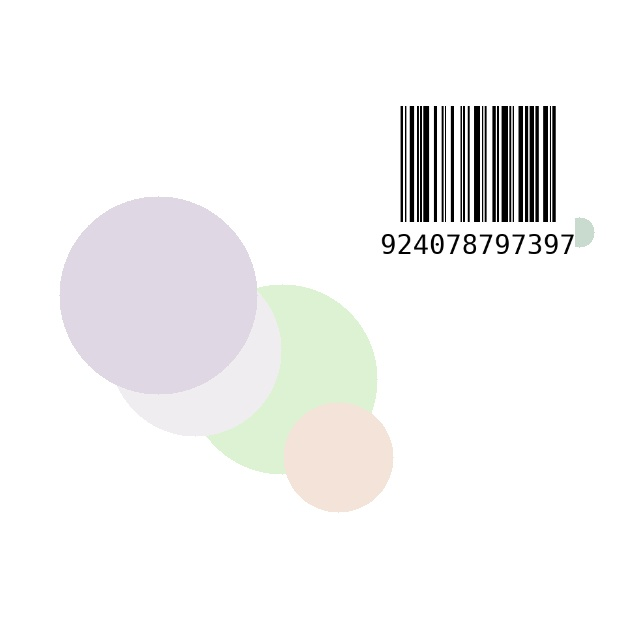barcode: (381, 99, 575, 281)
